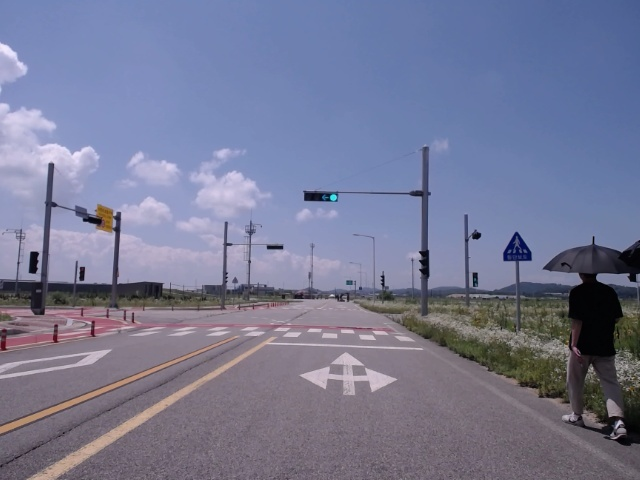all_green_4: (301, 190, 341, 203)
